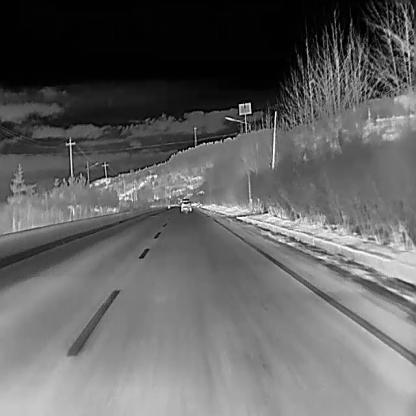car: (180, 199, 191, 211)
